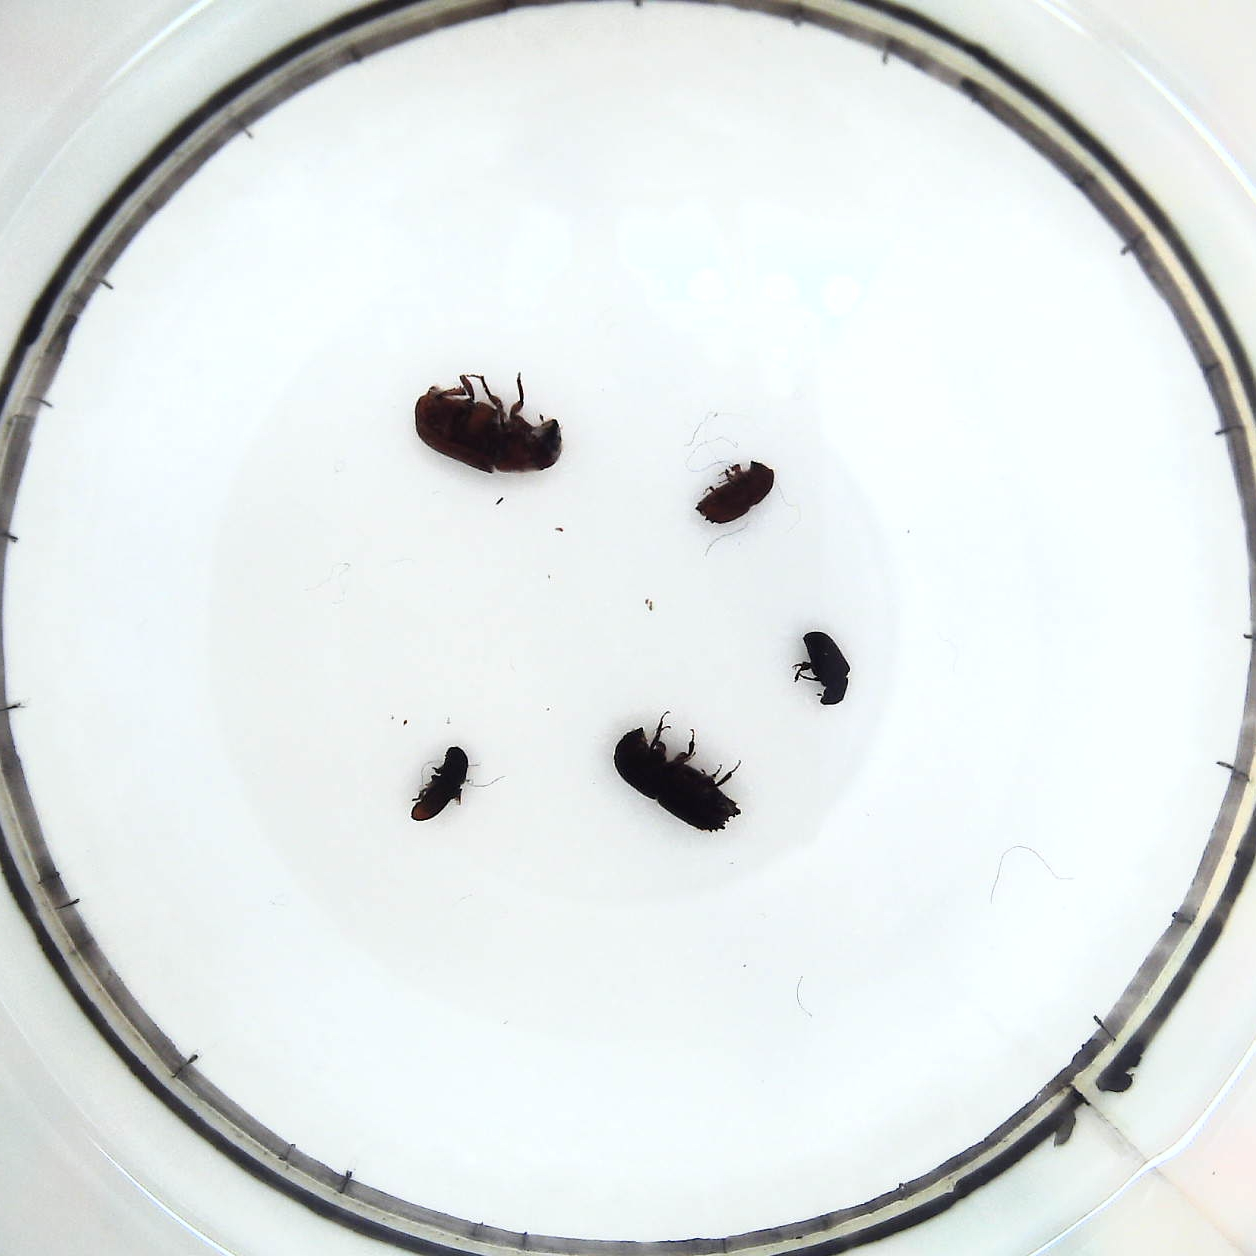Boerner: (612, 709, 749, 834)
Leconte: (408, 365, 566, 485)
armandi: (405, 741, 476, 829)
coleoptera: (786, 625, 853, 714)
linnaeus: (690, 451, 783, 529)
